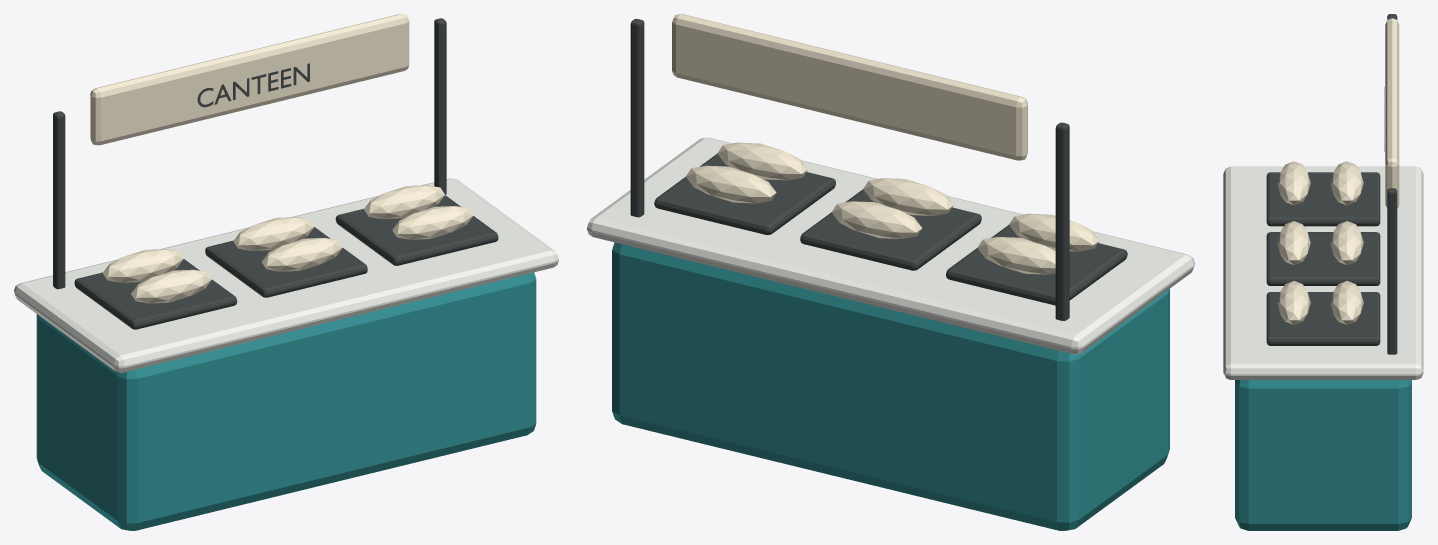
The model's file is food-counter.glb.
The picture shows the model from 3 angles, left to right: view 1: azimuth 30°, elevation 25°; view 2: azimuth 150°, elevation 25°; view 3: azimuth 270°, elevation 25°; orthographic projection. The views are drawn at different scales.
Visible parts, largest first — view 1: canteen_counter, canteen_worktop, sign_board, food_tray.002, food_tray.001, food_tray, counter_signpost, counter_signpost.001, bread_display.002, bread_display, bread_display.004, bread_display.001 (+3 smaller); view 2: canteen_counter, canteen_worktop, sign_board, food_tray.001, food_tray.002, food_tray, counter_signpost, counter_signpost.001, bread_display.003, bread_display.005, bread_display.002, bread_display.004 (+2 smaller); view 3: canteen_counter, canteen_worktop, food_tray.002, food_tray, food_tray.001, sign_board, counter_signpost.001, bread_display, bread_display.004, bread_display.001, bread_display.002, bread_display.003 (+1 smaller).
Part boxes in pixels (x1,y1,x2,y2): canteen_counter: (36, 272, 536, 530); canteen_worktop: (14, 178, 558, 372); sign_board: (90, 14, 409, 145); food_tray.002: (335, 195, 498, 265); food_tray.001: (205, 227, 367, 297); food_tray: (74, 259, 237, 329); counter_signpost: (53, 111, 65, 289); counter_signpost.001: (434, 18, 446, 194); bread_display.002: (261, 237, 342, 271); bread_display: (131, 269, 211, 303); bread_display.004: (392, 206, 473, 239); bread_display.001: (102, 249, 183, 282); canteen_counter: (612, 242, 1169, 530); canteen_worktop: (587, 137, 1194, 354); sign_board: (672, 14, 1027, 160); food_tray.001: (800, 189, 981, 270); food_tray.002: (654, 153, 835, 234); food_tray: (946, 225, 1127, 305); counter_signpost: (1055, 122, 1069, 320); counter_signpost.001: (630, 18, 644, 217); bread_display.003: (832, 201, 922, 238); bread_display.005: (686, 165, 776, 203); bread_display.002: (863, 178, 953, 215); bread_display.004: (717, 142, 807, 180); canteen_counter: (1235, 380, 1411, 530); canteen_worktop: (1223, 166, 1423, 379); food_tray.002: (1266, 292, 1380, 345); food_tray: (1266, 172, 1380, 226); food_tray.001: (1266, 232, 1380, 285); sign_board: (1385, 18, 1399, 208); counter_signpost.001: (1387, 188, 1397, 354); bread_display: (1277, 161, 1310, 205); bread_display.004: (1277, 281, 1310, 324); bread_display.001: (1330, 161, 1363, 205); bread_display.002: (1277, 221, 1310, 264); bread_display.003: (1330, 221, 1363, 264).
Bounding box in the file's own units: 2.45 × 1.98 × 1.02.
